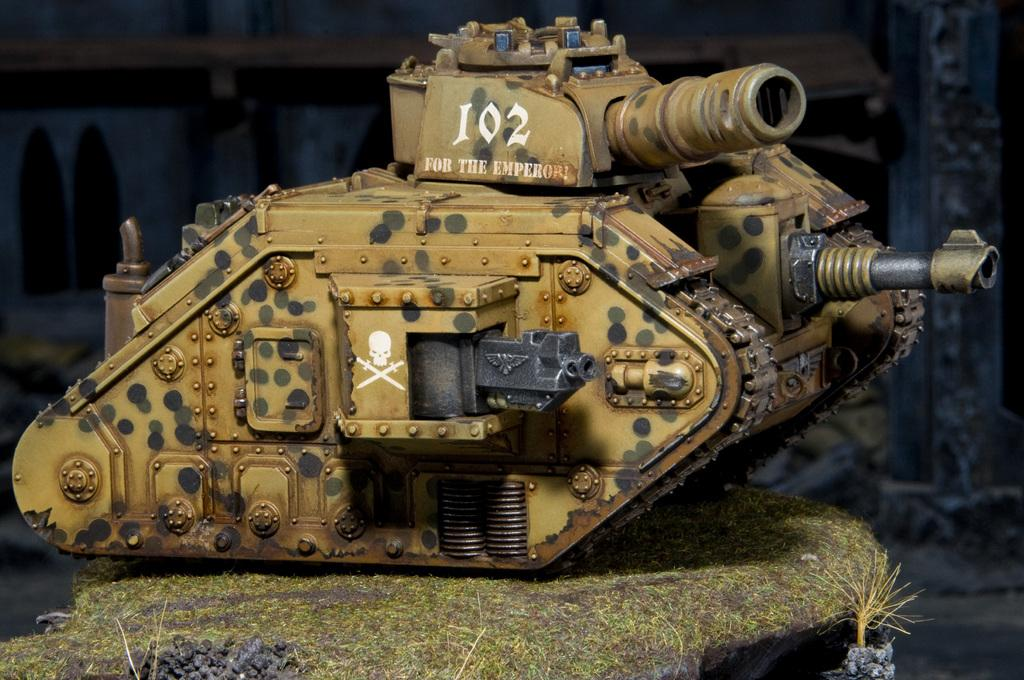Tank: (12, 13, 1001, 574)
